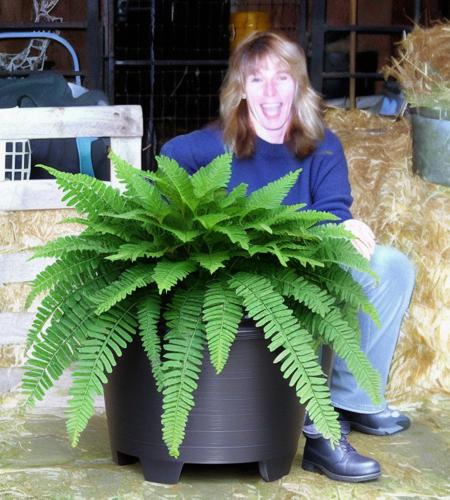person: (104, 30, 416, 436)
person/foot: (320, 392, 411, 436), (205, 347, 228, 411)
person/hand: (165, 230, 239, 289), (345, 187, 374, 224)
person/head: (245, 33, 302, 128)
pottedplant: (24, 153, 381, 482)
